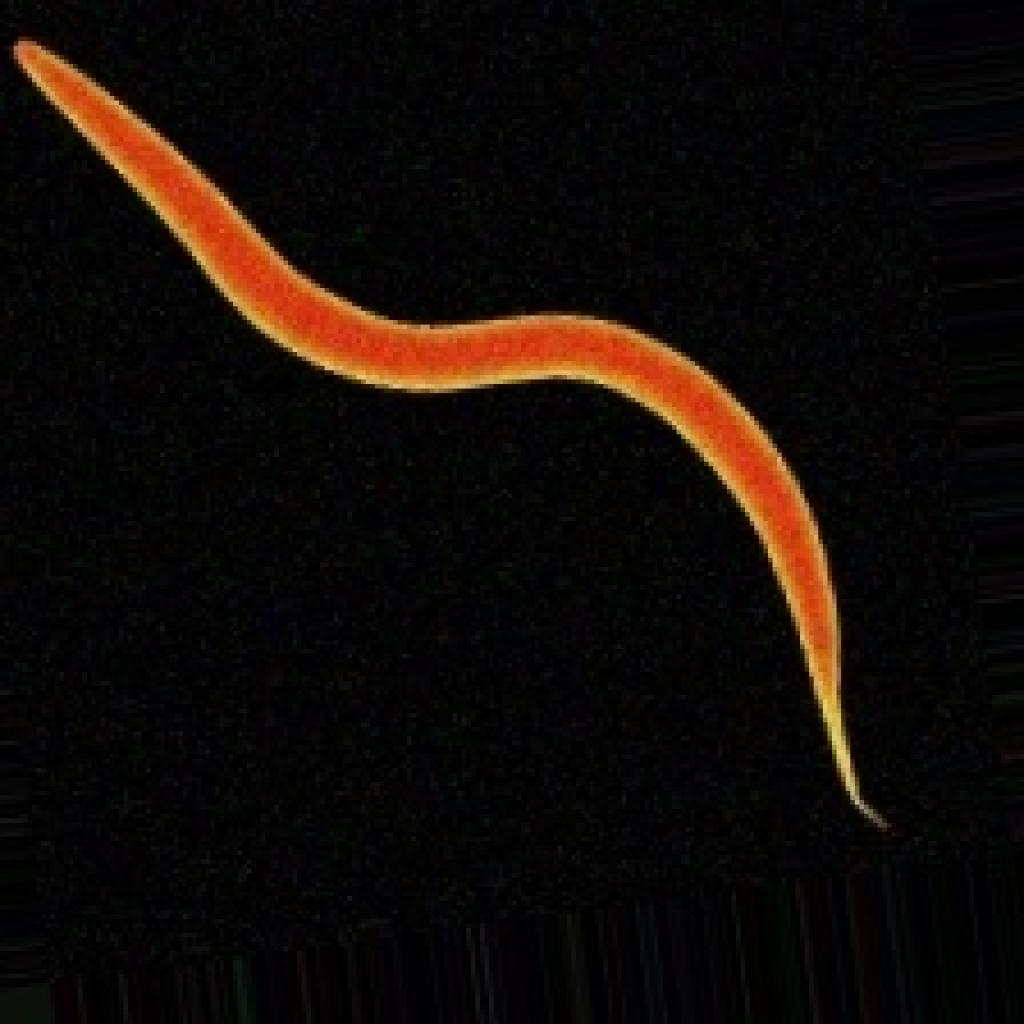Nematode: (5, 28, 896, 841)
